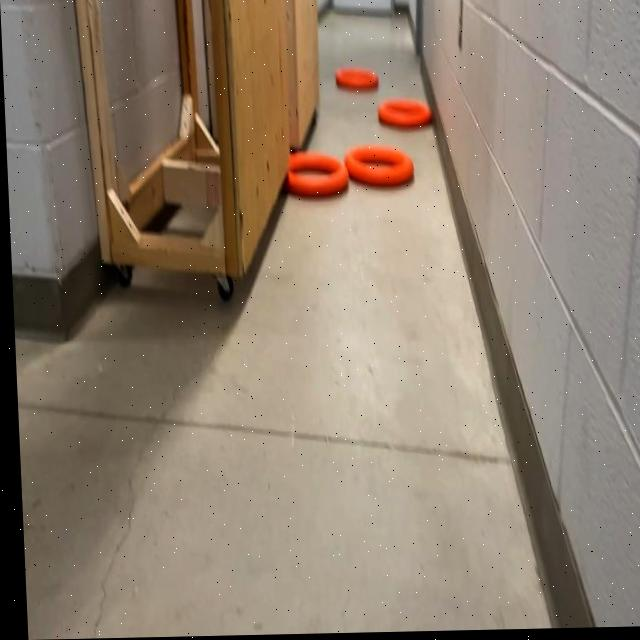note: (344, 143, 414, 196), (284, 152, 347, 203), (376, 98, 431, 136), (331, 66, 380, 92)
